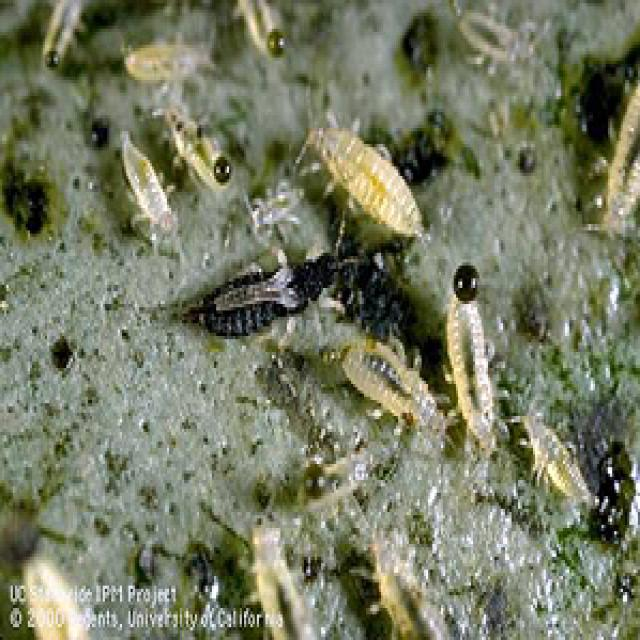Thrip-Adult-: (157, 237, 363, 353)
Thrip-Larva-: (298, 104, 434, 248), (325, 328, 442, 440), (512, 400, 593, 513), (120, 123, 172, 240)
